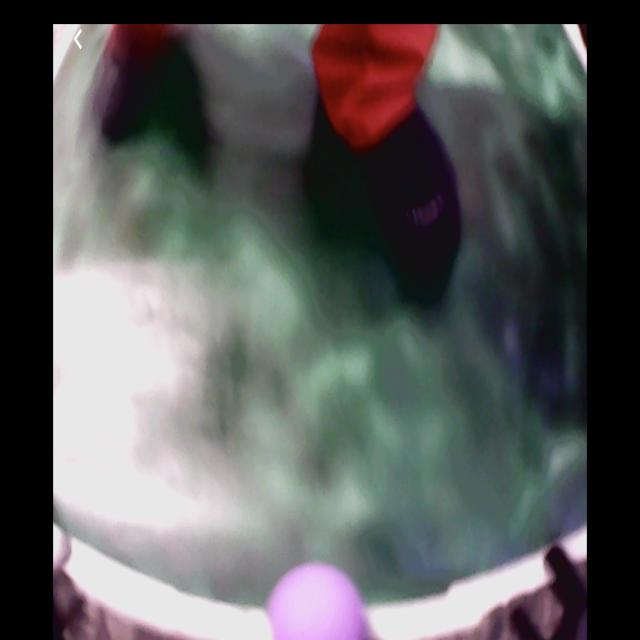ball: (267, 564, 366, 640)
